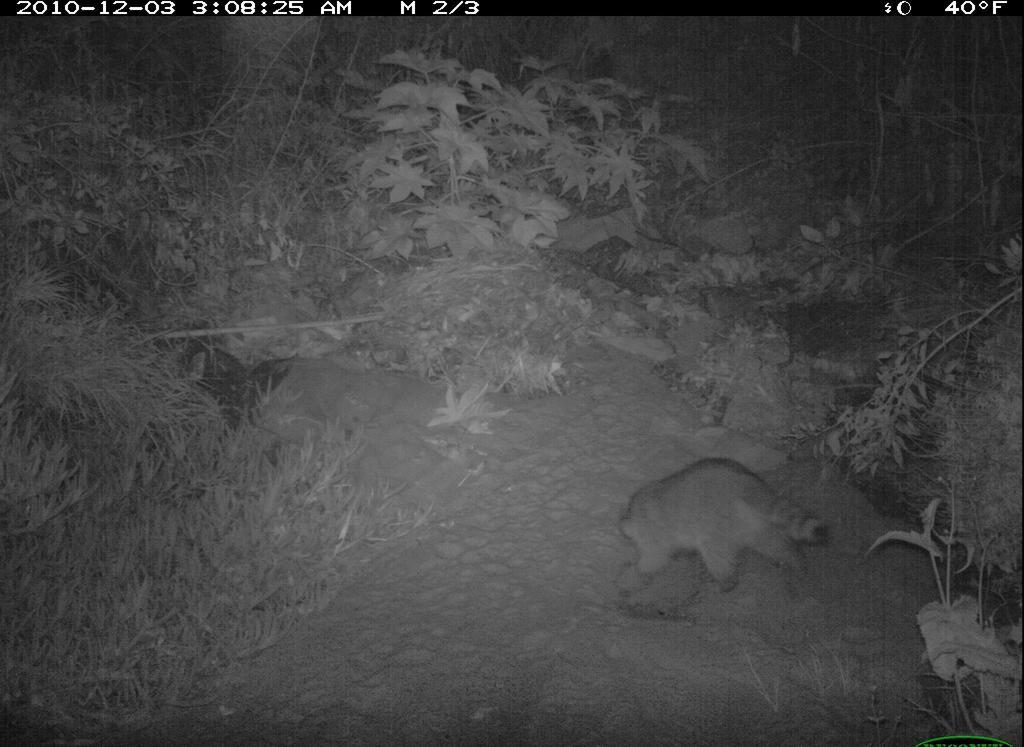raccoon: (615, 451, 843, 609)
